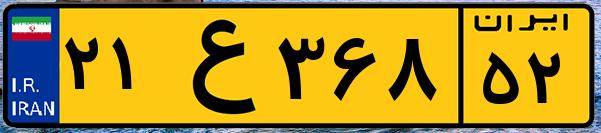1: (110, 28, 158, 98)
2: (57, 26, 110, 100), (525, 38, 570, 115)
3: (270, 28, 330, 110)
5: (475, 38, 525, 113)
6: (330, 28, 385, 110)
8: (385, 28, 445, 110)
ع: (158, 12, 270, 120)
